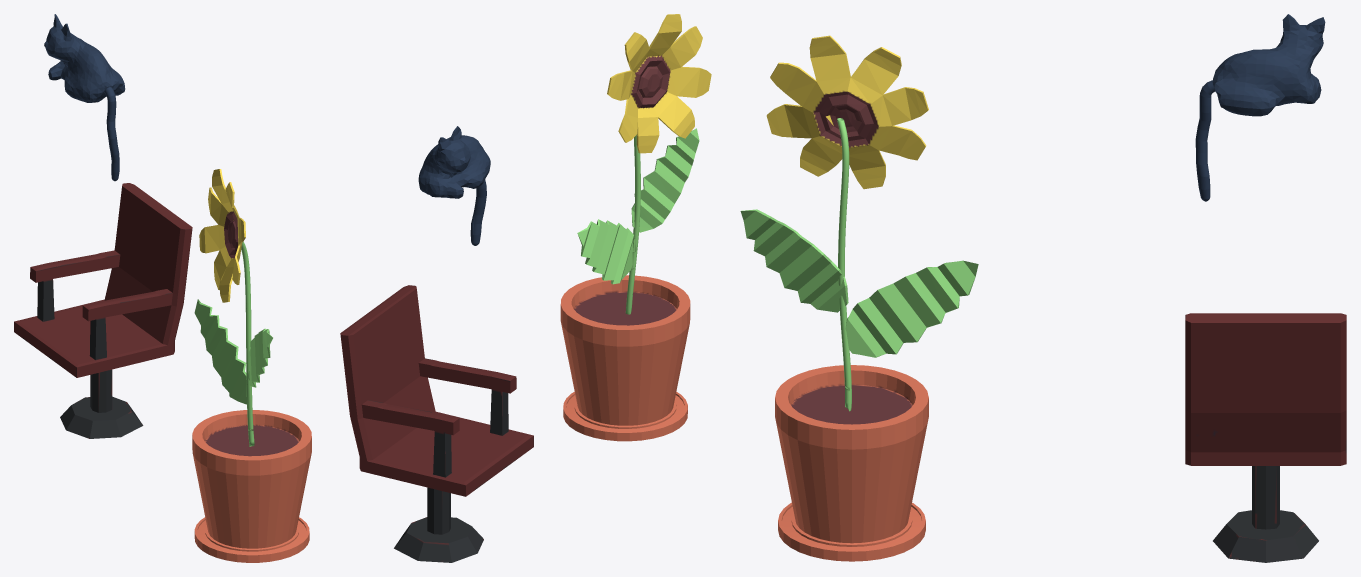
File: MainMenuExtraModels.fbx
The picture shows the model from 3 angles, left to right: view 1: azimuth 30°, elevation 25°; view 2: azimuth 150°, elevation 25°; view 3: azimuth 270°, elevation 25°; orthographic projection. The views are drawn at different scales.
Parts seen in each view (by area): view 1: Flower, Cube, Mball.012, Cylinder; view 2: Flower, Cube, Mball.012, Cylinder; view 3: Flower, Cube, Mball.012, Cylinder.
Part boxes in pixels (<box>): Flower: <box>192,169,311,562</box>; Cube: <box>14,183,192,438</box>; Mball.012: <box>44,14,125,102</box>; Cylinder: <box>104,87,119,181</box>; Flower: <box>560,14,711,441</box>; Cube: <box>340,285,533,562</box>; Mball.012: <box>418,126,490,198</box>; Cylinder: <box>470,179,486,245</box>; Flower: <box>740,35,978,561</box>; Cube: <box>1185,313,1346,562</box>; Mball.012: <box>1212,14,1325,116</box>; Cylinder: <box>1195,80,1214,201</box>.
Size of the model in its own units: 482 by 1477 by 1582.
Materials: 2 (1 with a texture image).
